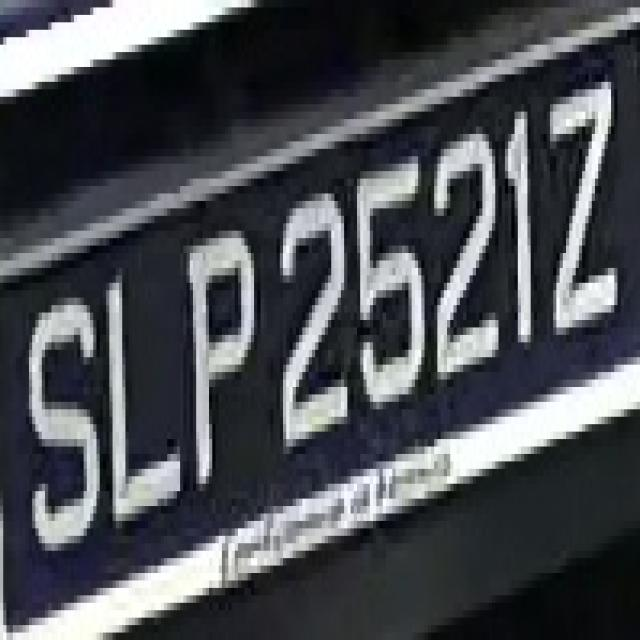1: (496, 74, 540, 380)
2: (267, 193, 357, 469), (418, 134, 508, 394)
5: (344, 141, 438, 439)
L: (96, 268, 186, 543)
P: (170, 216, 260, 513)
S: (16, 268, 103, 565)
Z: (531, 74, 630, 364)
